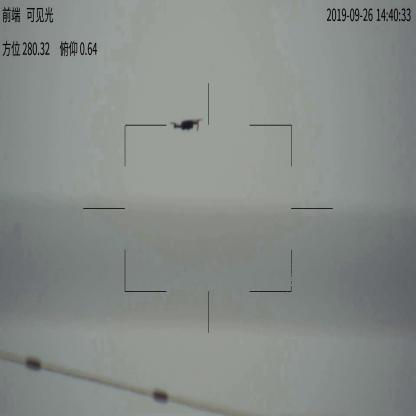uav: (170, 117, 204, 133)
